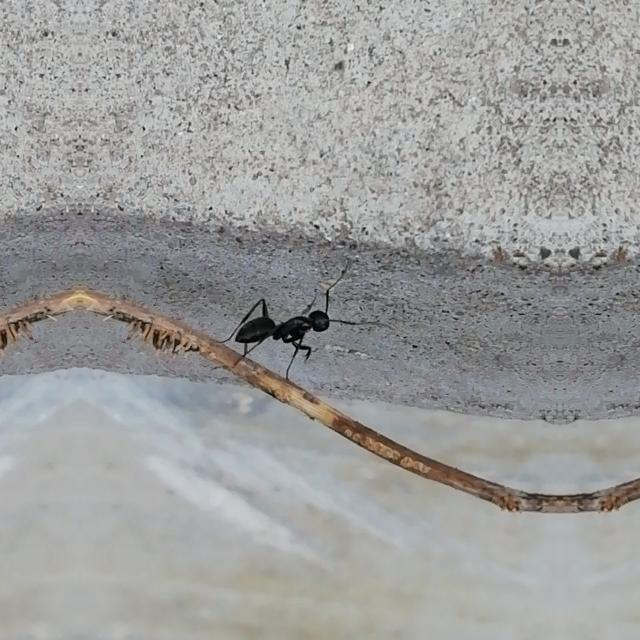Camponotus: (222, 267, 354, 379)
